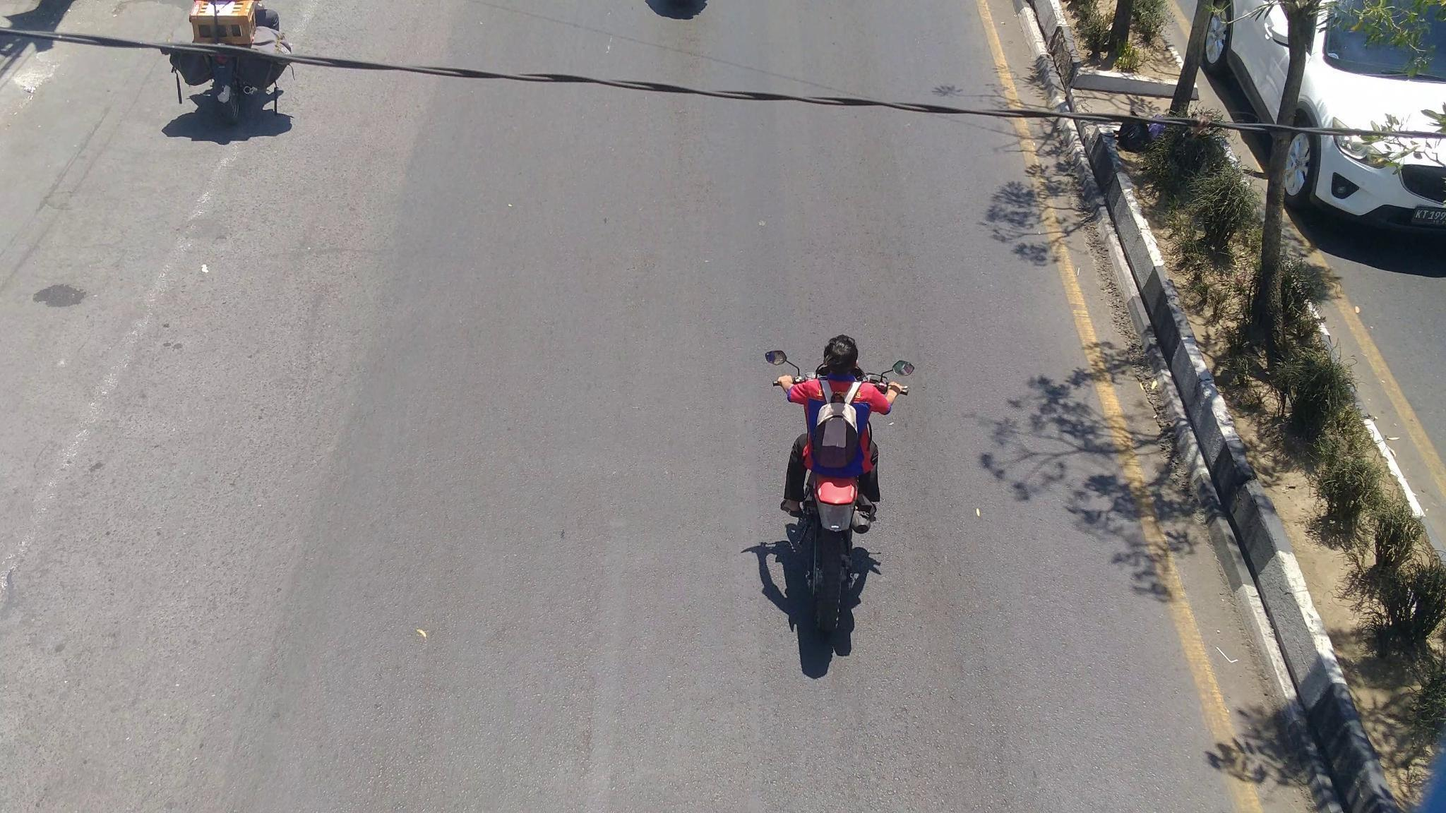bike: (760, 347, 915, 630)
no-helmet: (817, 328, 865, 382)
rider: (774, 330, 904, 516)
